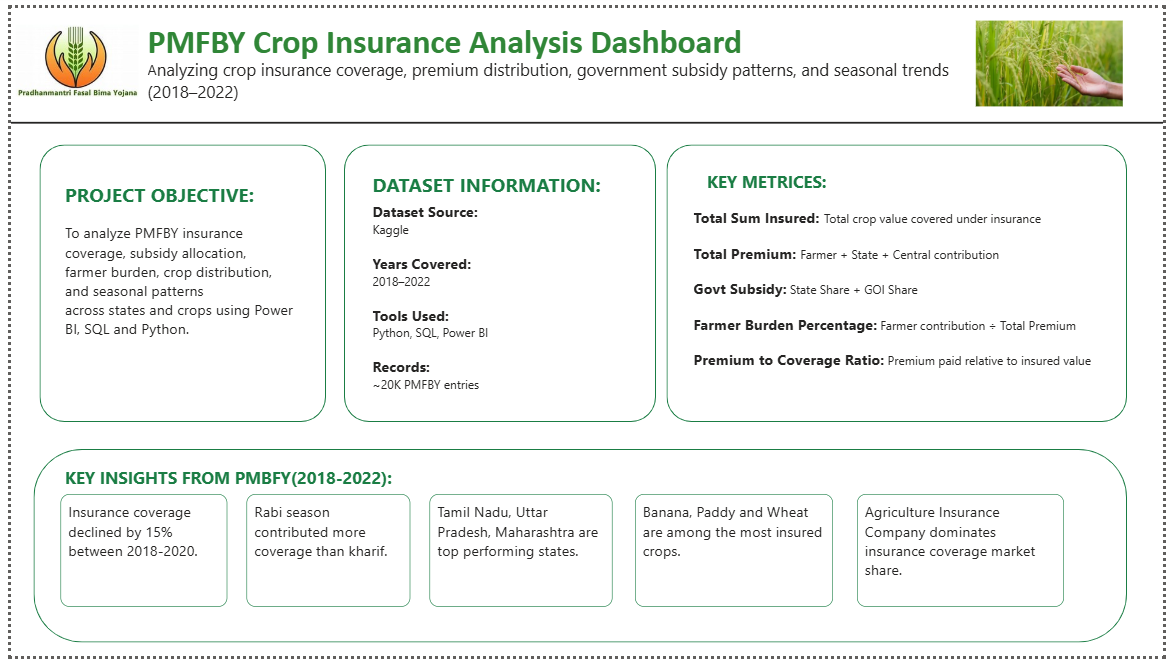

The page's visual inventory and layout, read from the dashboard file:
{"tool":"powerbi","page":{"name":"Project Overview","canvas":[1280,720],"ordinal":0},"visuals":[{"type":"textbox","box":[146.7,0,905,116.7],"z":0},{"type":"image","box":[0,0,146.7,116.7],"z":1000},{"type":"image","box":[1066.7,6.7,173.3,110],"z":2000},{"type":"shape","box":[31.7,151.7,318.3,308.3],"z":3000},{"type":"textbox","box":[55,186.7,265,261.7],"z":4000},{"type":"shape","box":[370,151.7,346.7,308.3],"z":5000},{"type":"shape","box":[728.3,151.7,511.7,308.3],"z":6000},{"type":"textbox","box":[396.7,163.3,296.7,268.3],"z":7000},{"type":"textbox","box":[768.3,175,438.3,38.3],"z":8000},{"type":"textbox","box":[753.3,213.3,453.3,235],"z":9000},{"type":"shape","box":[0,116.7,1280,21.7],"z":10000},{"type":"shape","box":[25,490,1215,215],"z":11000},{"type":"textbox","box":[55,503.3,1151.7,36.7],"z":12000},{"type":"textbox","box":[55,540,185,125],"z":13000},{"type":"textbox","box":[261.7,540,181.7,125],"z":14000},{"type":"textbox","box":[465,540,203.3,125],"z":15000},{"type":"textbox","box":[693.3,540,220,125],"z":16000},{"type":"textbox","box":[940,540,230,125],"z":17000}]}

Visuals, with their boxes in screenshot pixels (x1, y1, x2, y2), scaled from the page's 1280x720 canvas onto the 1173x667 screenshot:
textbox: [x1=134, y1=0, x2=964, y2=108]
image: [x1=0, y1=0, x2=134, y2=108]
image: [x1=978, y1=6, x2=1136, y2=108]
shape: [x1=29, y1=141, x2=321, y2=426]
textbox: [x1=50, y1=173, x2=293, y2=415]
shape: [x1=339, y1=141, x2=657, y2=426]
shape: [x1=667, y1=141, x2=1136, y2=426]
textbox: [x1=364, y1=151, x2=635, y2=400]
textbox: [x1=704, y1=162, x2=1106, y2=198]
textbox: [x1=690, y1=198, x2=1106, y2=415]
shape: [x1=0, y1=108, x2=1172, y2=128]
shape: [x1=23, y1=454, x2=1136, y2=653]
textbox: [x1=50, y1=466, x2=1106, y2=500]
textbox: [x1=50, y1=500, x2=220, y2=616]
textbox: [x1=240, y1=500, x2=406, y2=616]
textbox: [x1=426, y1=500, x2=612, y2=616]
textbox: [x1=635, y1=500, x2=837, y2=616]
textbox: [x1=861, y1=500, x2=1072, y2=616]
